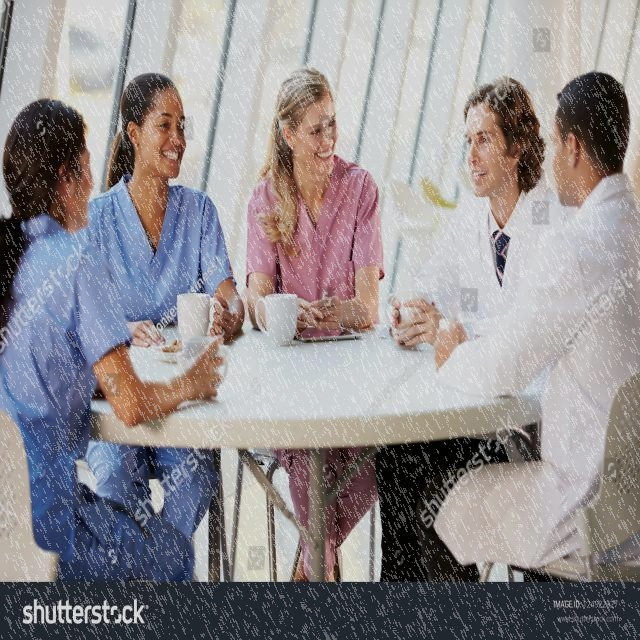pessoa: (413, 71, 640, 584), (1, 98, 224, 580), (371, 69, 568, 584), (81, 70, 247, 542), (242, 61, 391, 584)
